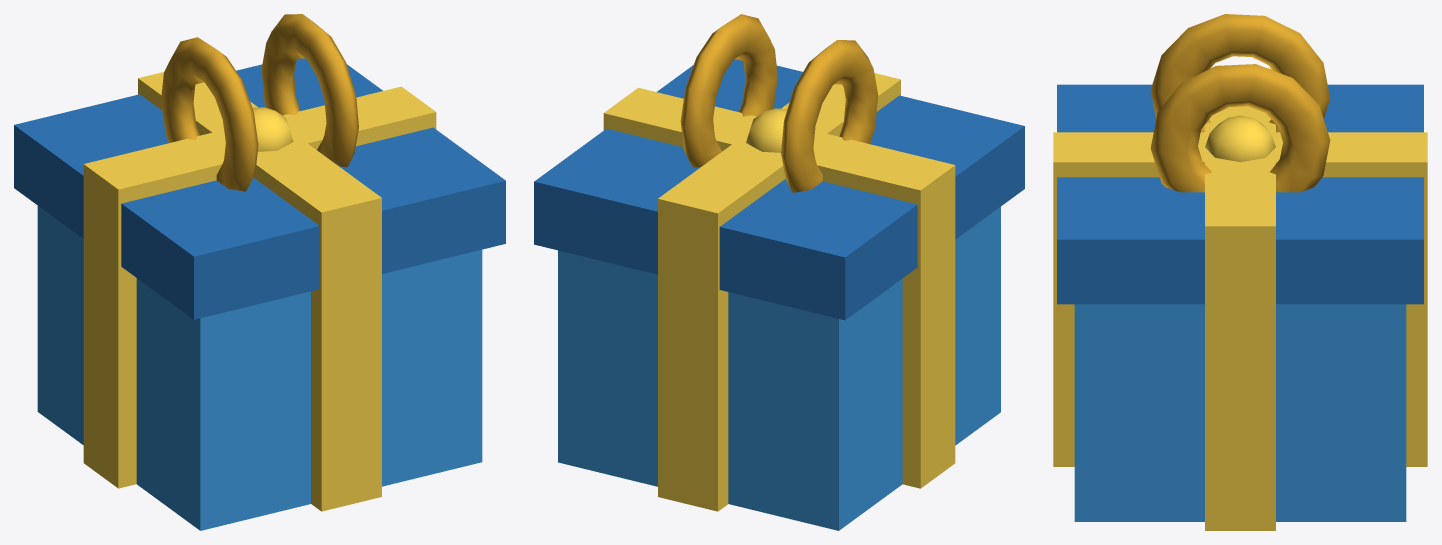
The model's file is GiftBox3D.glb.
3 views of the same model, side by side, from view 1: azimuth 30°, elevation 25°; view 2: azimuth 150°, elevation 25°; view 3: azimuth 270°, elevation 25° (orthographic). The views are drawn at different scales.
Visible parts, largest first — view 1: Body; view 2: Body; view 3: Body.
Part boxes in pixels (<box>): Body: <box>14,14,505,530</box>; Body: <box>534,14,1024,530</box>; Body: <box>1053,14,1427,530</box>.
Bounding box in the file's own units: 1.58 × 1.92 × 1.58.
1 material, 1 textured.
